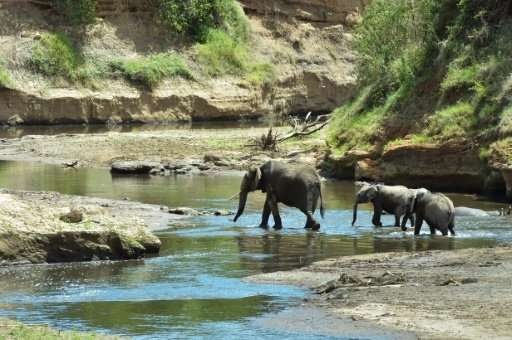elephant: (231, 158, 325, 234), (348, 177, 413, 228), (404, 185, 457, 240)
